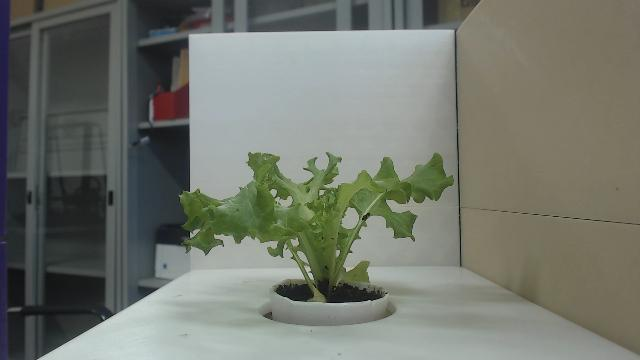Vegetative Stage: (179, 151, 455, 301)
